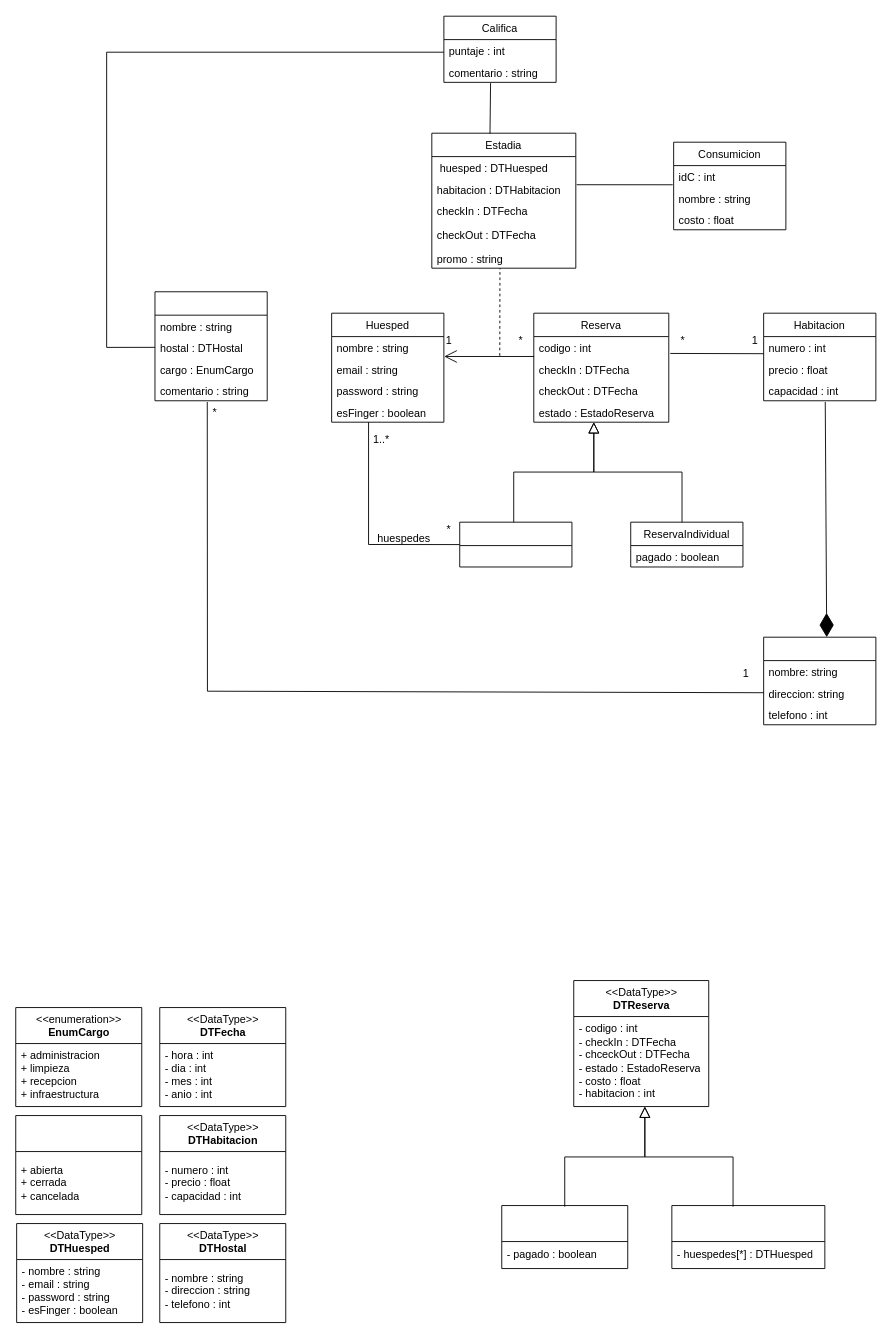
This 892x1338 diagram has some shape labels left out. Here are the shapes that lost their labels. From the top down, the box of each, then its label:
(154, 291, 267, 401): Empleado
(459, 521, 572, 567): ReservaGrupal
(763, 636, 876, 725): Hostal
(15, 1115, 142, 1215): <<enumeration>> EstadoReserva
(501, 1205, 628, 1269): <<DataType>> DTReservaIndividual
(671, 1205, 825, 1269): <<DataType>> DTReservaGrupal
